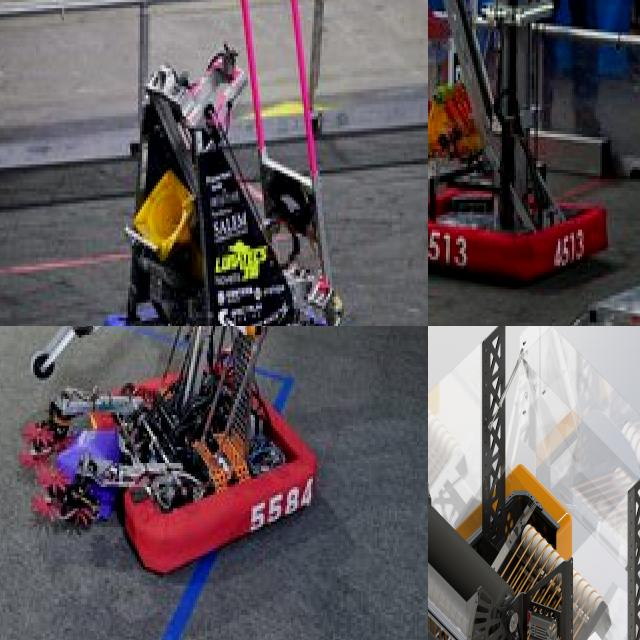FRC-Robots: (74, 6, 392, 326), (0, 326, 375, 571), (428, 326, 640, 640), (428, 0, 609, 291)
